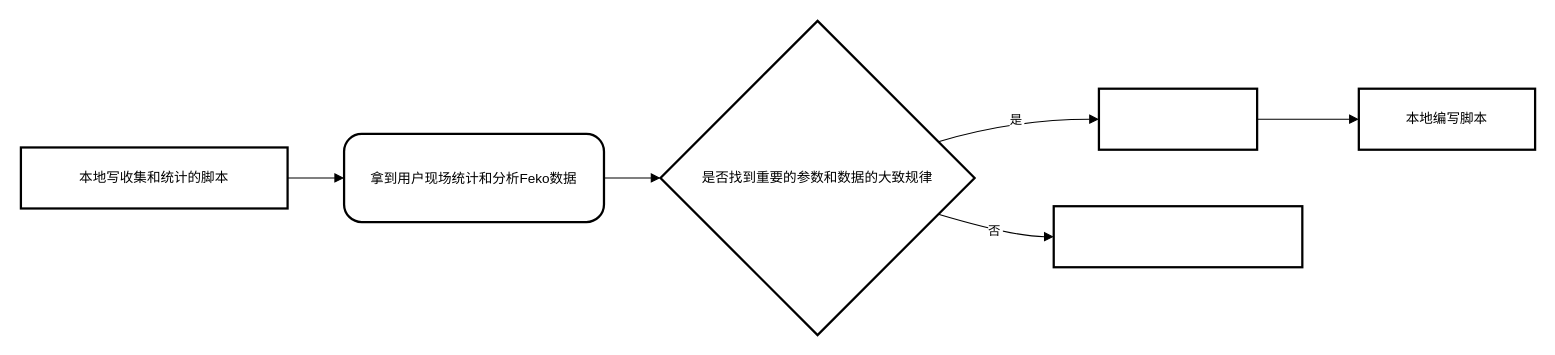
This 1555x355 diagram has some shape labels left out. Each missing label, with the box of its shape:
生成假数据: (1097, 87, 1258, 150)
进一步分析和调整脚本: (1052, 205, 1303, 268)
